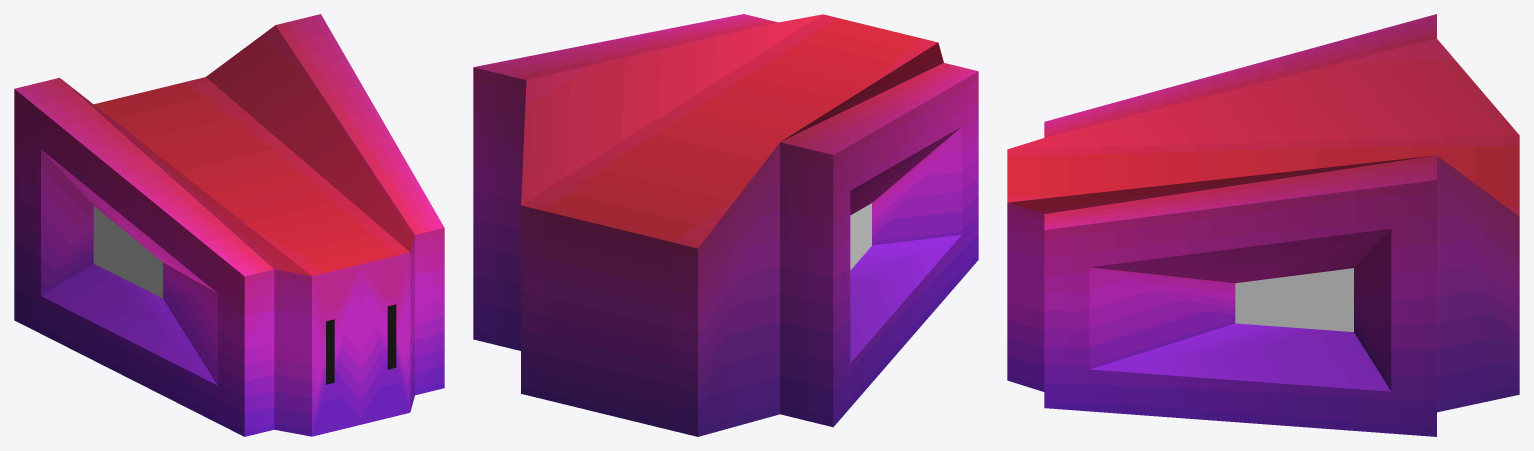
Rendered from snakeHead.fbx.
The picture shows the model from 3 angles, left to right: view 1: azimuth 30°, elevation 25°; view 2: azimuth 150°, elevation 25°; view 3: azimuth 270°, elevation 25°; orthographic projection. The views are drawn at different scales.
Parts seen in each view (by area): view 1: snakeMeshHead; view 2: snakeMeshHead; view 3: snakeMeshHead.
Boxes of the visible parts, box(x1,y1,x2,y2) form: snakeMeshHead: box(14, 14, 444, 436); snakeMeshHead: box(473, 14, 978, 436); snakeMeshHead: box(1007, 14, 1519, 436).
Bounding box in the file's own units: 200 × 144 × 261.
